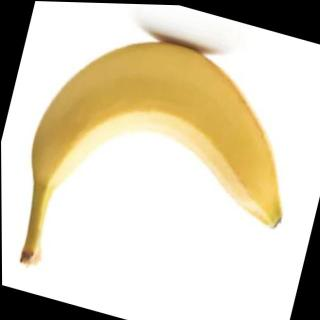banana: (18, 8, 318, 257)
